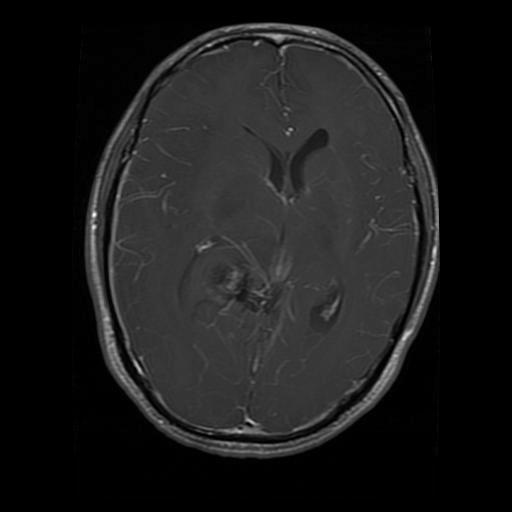Tumour-Glioma: (169, 237, 261, 316)
